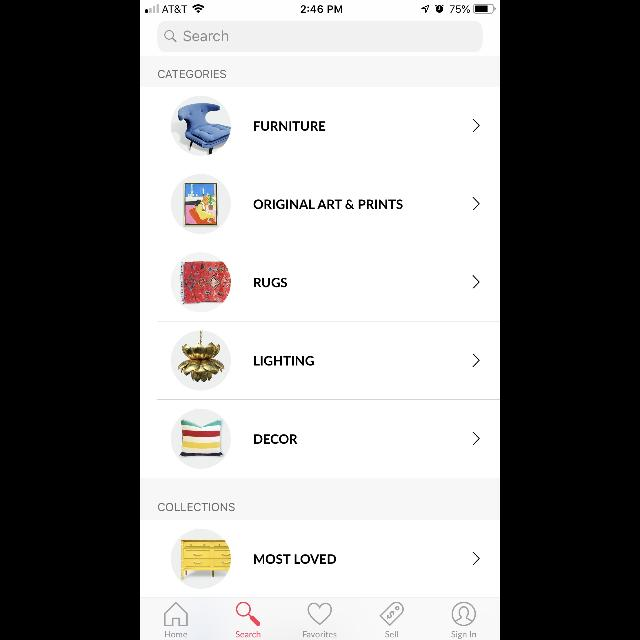icon: (164, 602, 188, 626), (236, 602, 260, 626), (380, 602, 404, 626), (452, 602, 476, 626), (308, 603, 332, 625), (165, 30, 177, 42), (472, 118, 480, 132), (472, 432, 480, 446), (472, 552, 480, 566), (472, 198, 480, 210), (472, 276, 480, 288), (472, 354, 480, 366)
image: (171, 96, 231, 156), (171, 174, 231, 234), (171, 252, 231, 312), (171, 330, 231, 390), (171, 409, 231, 469), (171, 529, 231, 589)
input: (158, 22, 482, 52)
text: (253, 199, 402, 209), (254, 554, 336, 564), (254, 121, 326, 131), (158, 503, 235, 511), (254, 356, 314, 366), (158, 70, 226, 78), (184, 30, 228, 42), (255, 434, 298, 444), (255, 278, 288, 288), (304, 630, 336, 638), (236, 630, 260, 638), (452, 631, 476, 639), (166, 631, 188, 637), (384, 631, 398, 637)
uppertaskbar: (140, 0, 500, 14)
